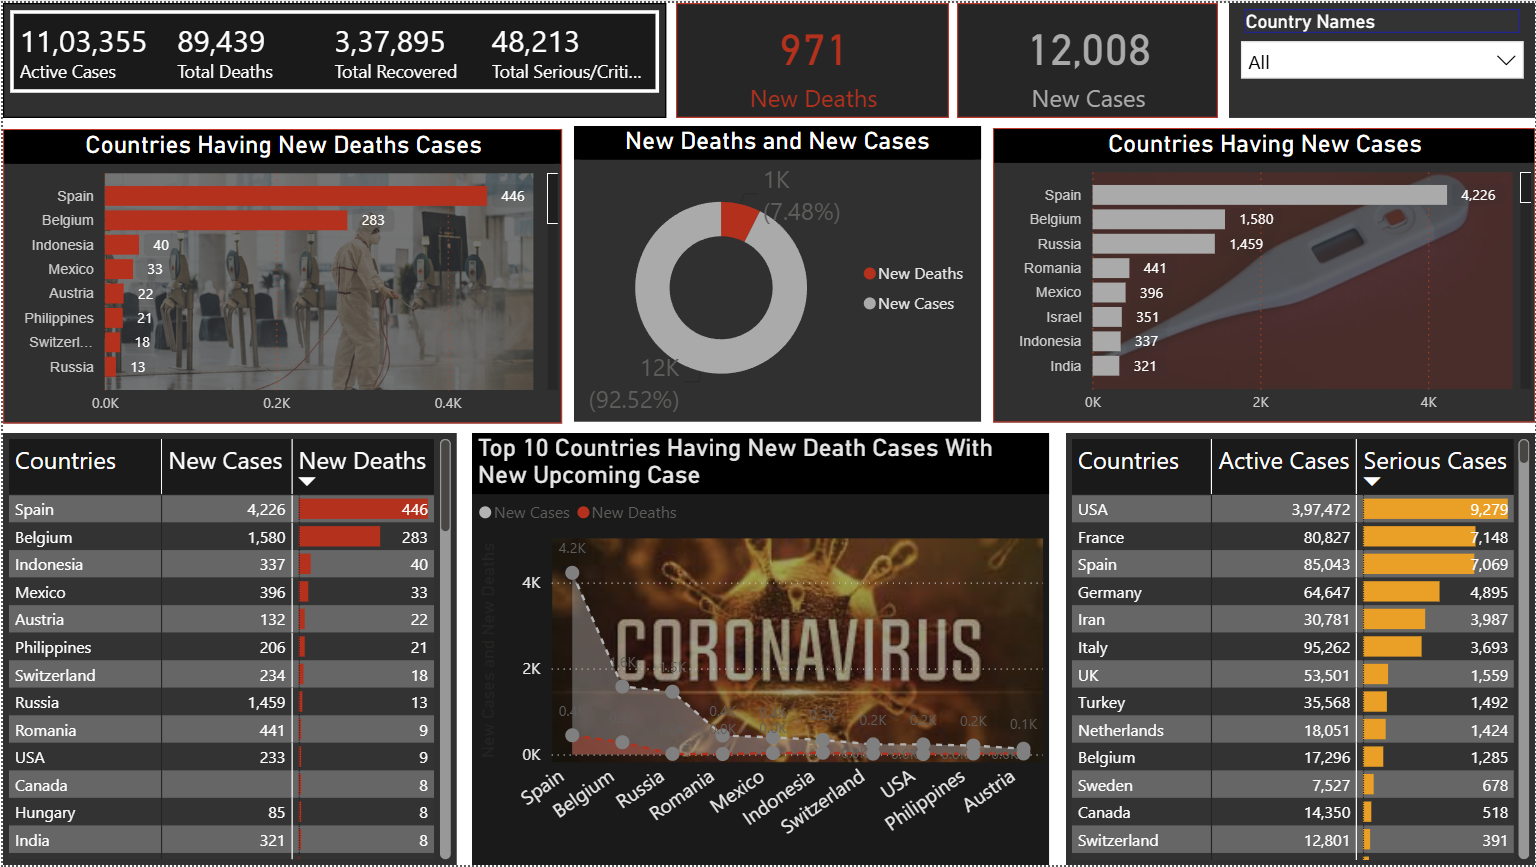

The page's visual inventory and layout, read from the dashboard file:
{"tool":"powerbi","page":{"name":"Com b/w New Case","canvas":[1280,720],"ordinal":4},"visuals":[{"type":"barChart","title":"Countries Having New Deaths Cases","fields":{"Category":["CoronaData.Country, Other"],"Y":["Sum(Coronavirus Data.New Deaths)"]},"box":[0,105.5,467,245.8],"z":0},{"type":"barChart","title":"Countries Having New Cases","fields":{"Category":["CoronaData.Country, Other"],"Y":["Sum(Coronavirus Data.New Cases)"]},"box":[827,104.1,452.5,245.8],"z":1000},{"type":"areaChart","title":"Top 10 Countries Having New Death Cases With New Upcoming Case","fields":{"Category":["Coronavirus Data.Countries, Others"],"Y":["Sum(Coronavirus Data.New Cases)","Sum(Coronavirus Data.New Deaths)"]},"box":[392.1,359.4,482.4,361.3],"z":2000},{"type":"pivotTable","fields":{"Rows":["Coronavirus Data.Countries"],"Values":["Sum(Coronavirus Data.New Cases)","Sum(Coronavirus Data.New Deaths)"]},"box":[0,359.4,378.6,361.3],"z":3000},{"type":"pivotTable","fields":{"Rows":["Coronavirus Data.Countries"],"Values":["Sum(Coronavirus Data.Active Cases)","Sum(Coronavirus Data.Total Serious, Critical)"]},"box":[887.9,359.4,392.1,361.3],"z":4000},{"type":"donutChart","fields":{"Y":["Sum(Coronavirus Data.New Deaths)","Sum(Coronavirus Data.New Cases)"]},"box":[477.1,102.7,339.8,247.2],"z":5000},{"type":"card","fields":{"Values":["Sum(Coronavirus Data.New Deaths)"]},"box":[562,0,228,96],"z":6000},{"type":"card","fields":{"Values":["Sum(CoronaData.New Cases)"]},"box":[797,0,218,96],"z":7000},{"type":"multiRowCard","fields":{"Values":["Sum(Coronavirus Data.Active Cases)","Sum(Coronavirus Data.Total Deaths)","Sum(Coronavirus Data.Total Recovered)","Sum(Coronavirus Data.Total Serious, Critical)"]},"box":[0,0,553.9,96.3],"z":8000},{"type":"slicer","title":"F","fields":{"Values":["CoronaData.Countries, Others"]},"box":[1024.4,0,255.6,96.3],"z":9000}]}

Visuals, with their boxes in screenshot pixels (x1, y1, x2, y2), scaled from the page's 1280x720 canvas onto the 1536x867 screenshot:
"Countries Having New Deaths Cases" barChart: (x1=0, y1=127, x2=560, y2=423)
"Countries Having New Cases" barChart: (x1=992, y1=125, x2=1535, y2=421)
"Top 10 Countries Having New Death Cases With New Upcoming Case" areaChart: (x1=471, y1=433, x2=1049, y2=866)
pivotTable - Coronavirus Data.Countries x Sum(Coronavirus Data.New Cases): (x1=0, y1=433, x2=454, y2=866)
pivotTable - Coronavirus Data.Countries x Sum(Coronavirus Data.Active Cases): (x1=1065, y1=433, x2=1535, y2=866)
donutChart - Sum(Coronavirus Data.New Deaths) x Sum(Coronavirus Data.New Cases): (x1=573, y1=124, x2=980, y2=421)
card - Sum(Coronavirus Data.New Deaths): (x1=674, y1=0, x2=948, y2=116)
card - Sum(CoronaData.New Cases): (x1=956, y1=0, x2=1218, y2=116)
multiRowCard - Sum(Coronavirus Data.Active Cases) x Sum(Coronavirus Data.Total Deaths): (x1=0, y1=0, x2=665, y2=116)
"F" slicer: (x1=1229, y1=0, x2=1535, y2=116)
